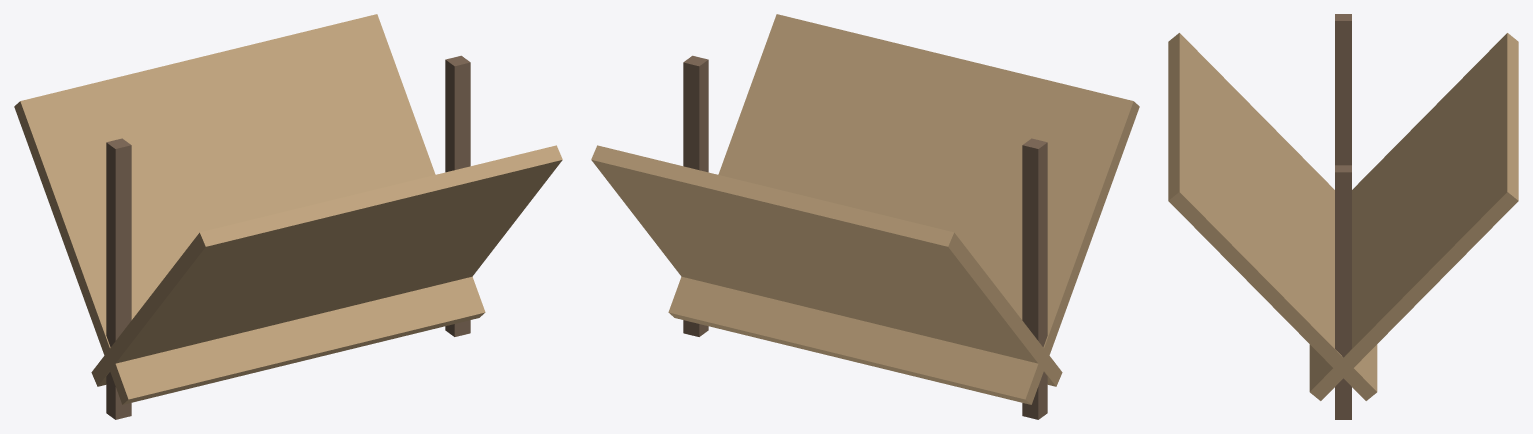
File: roof.glb
3 views of the same model, side by side, from view 1: azimuth 30°, elevation 25°; view 2: azimuth 150°, elevation 25°; view 3: azimuth 270°, elevation 25° (orthographic). The views are drawn at different scales.
Parts seen in each view (by area): view 1: roof_0, roof_1, roof_2, roof_3; view 2: roof_1, roof_0, roof_2, roof_3; view 3: roof_0, roof_1, roof_3, roof_2.
Part boxes in pixels (bbox=[...]): roof_0: bbox=[14, 14, 485, 404]; roof_1: bbox=[91, 145, 562, 386]; roof_2: bbox=[106, 138, 131, 419]; roof_3: bbox=[445, 55, 470, 336]; roof_1: bbox=[668, 14, 1139, 404]; roof_0: bbox=[591, 145, 1062, 386]; roof_2: bbox=[1022, 138, 1047, 419]; roof_3: bbox=[683, 55, 708, 336]; roof_0: bbox=[1309, 33, 1518, 400]; roof_1: bbox=[1168, 33, 1377, 400]; roof_3: bbox=[1335, 165, 1351, 419]; roof_2: bbox=[1335, 14, 1351, 165].
Bounding box in the file's own units: 4 × 2.9 × 3.72.
